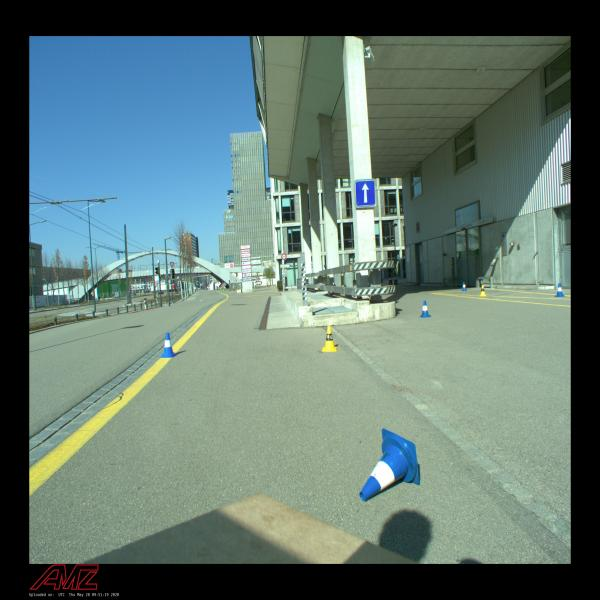blue_cone: (359, 429, 420, 502), (160, 332, 178, 358), (419, 300, 432, 318), (554, 283, 565, 297), (462, 282, 467, 291)
yellow_cone: (322, 326, 338, 352), (479, 286, 486, 296)
